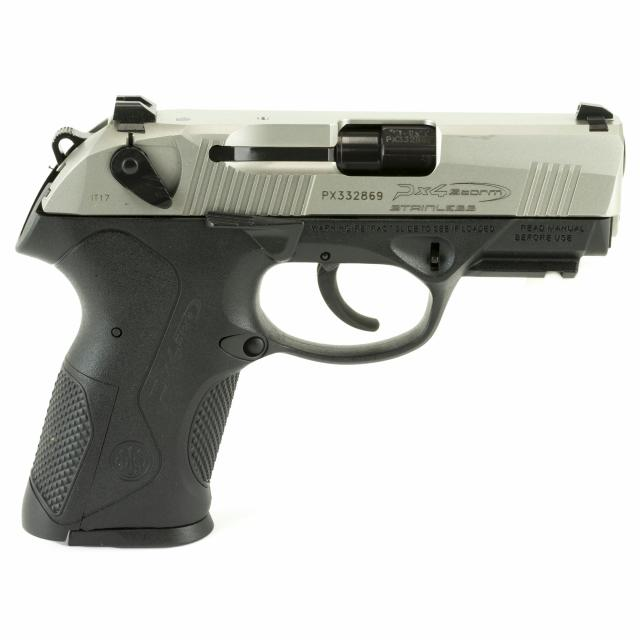gun: (20, 94, 630, 550)
